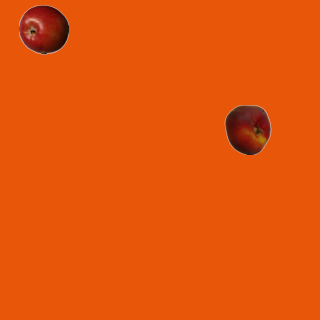Apple Braeburn: (18, 4, 68, 54)
Nectarine Flat: (222, 104, 272, 154)
